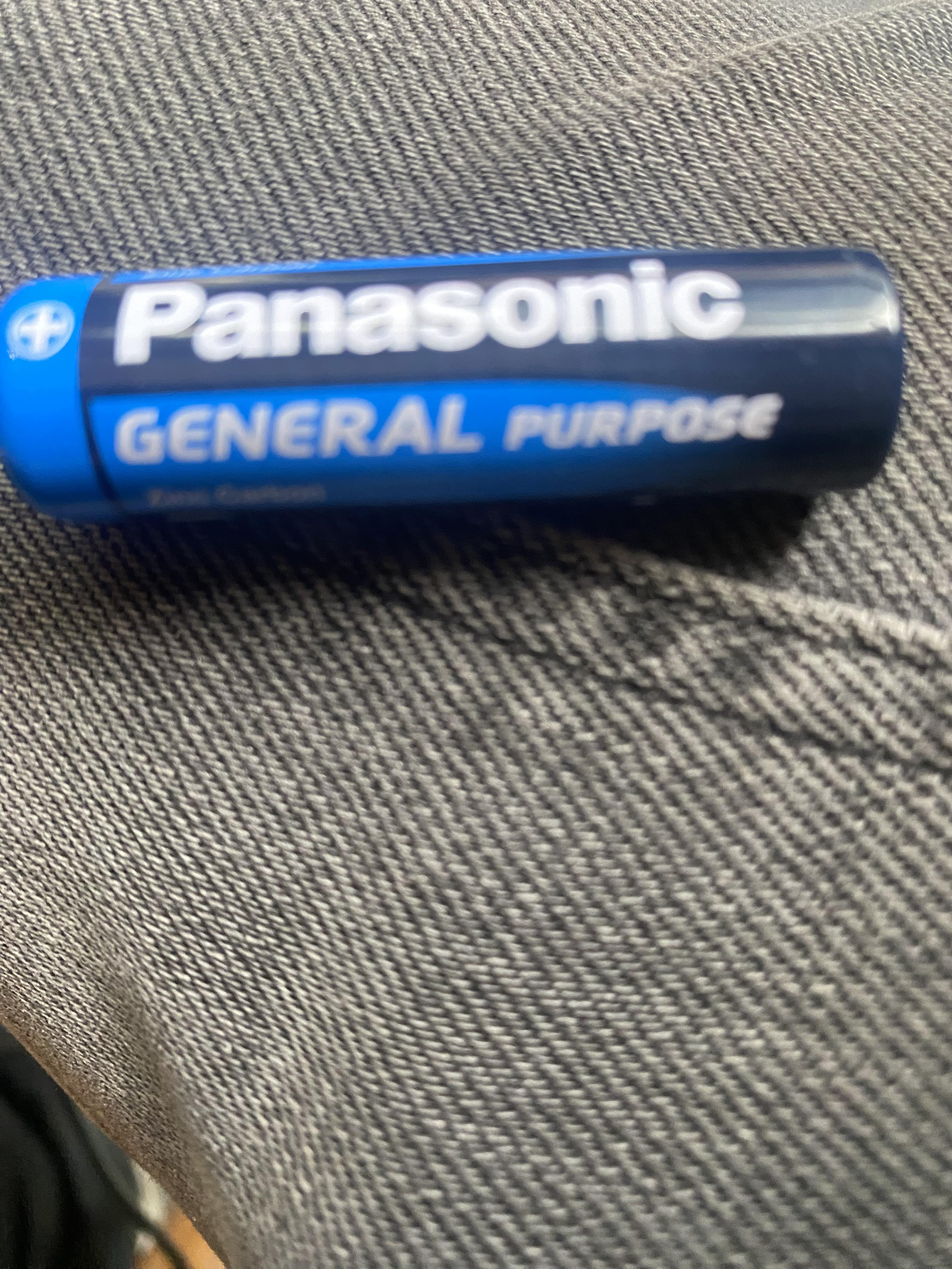AA: (2, 243, 906, 527)
